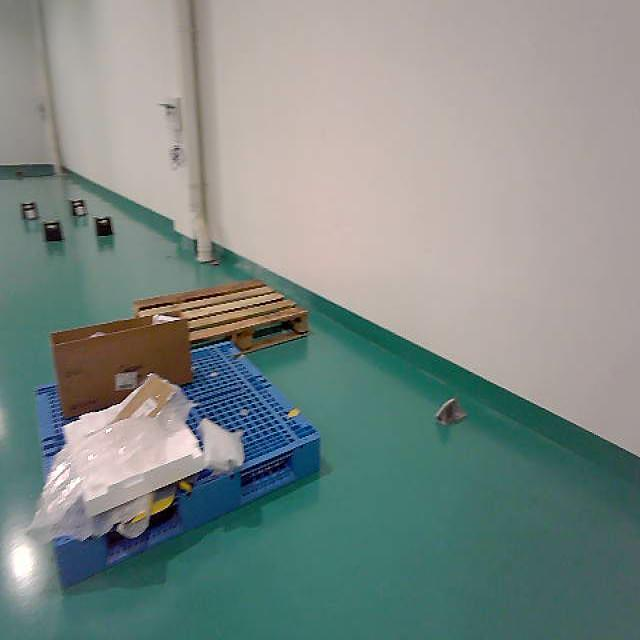euro: (132, 280, 310, 355)
